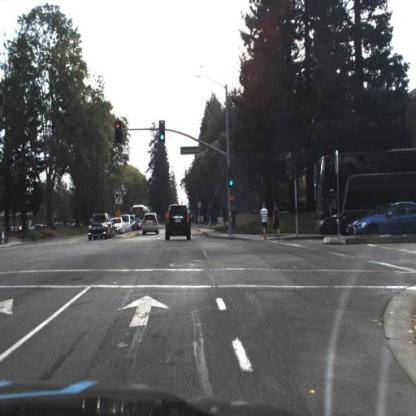car: (353, 203, 416, 239), (164, 201, 194, 243), (88, 212, 113, 243), (141, 211, 161, 238)
pedestrian: (272, 201, 282, 242), (262, 202, 270, 238)
trafficLight-Green: (160, 122, 166, 144), (230, 170, 235, 188)
trafficLight-GreenLeft: (113, 120, 125, 145)
trafficLight-RedLeft: (115, 121, 122, 142)
truck: (312, 150, 416, 236)
